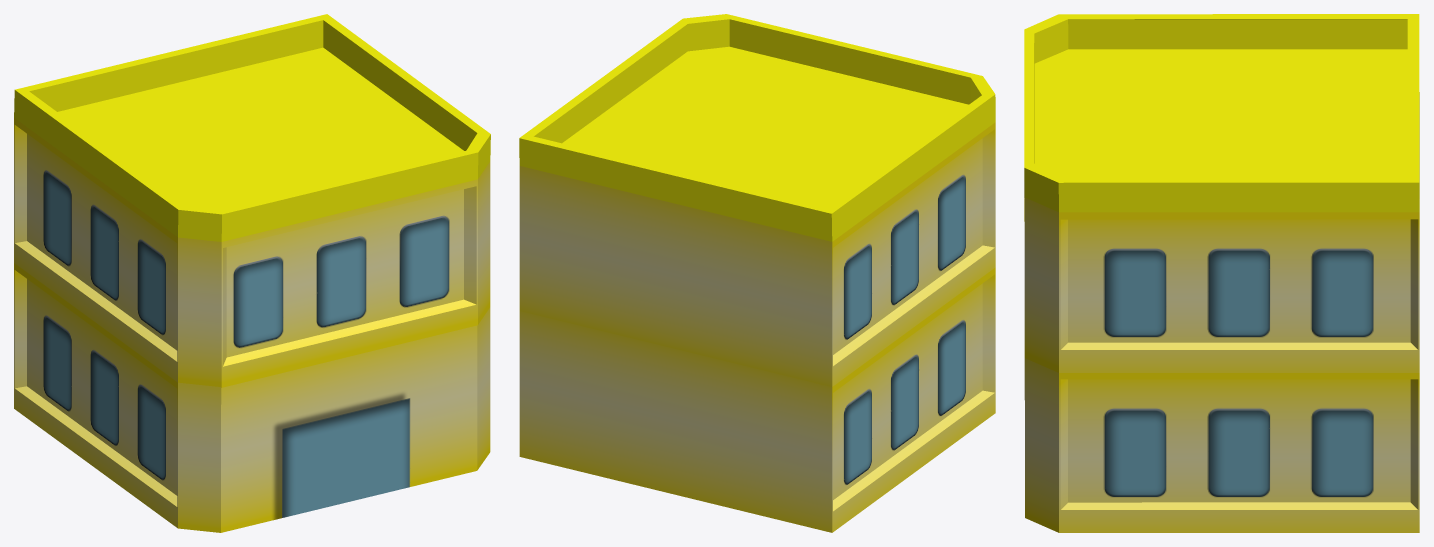
File: Building 4.fbx
3 renders of one model, left to right at view 1: azimuth 30°, elevation 25°; view 2: azimuth 150°, elevation 25°; view 3: azimuth 270°, elevation 25°, orthographic. The views are drawn at different scales.
Parts seen in each view (by area): view 1: Building_4; view 2: Building_4; view 3: Building_4.
Boxes of the visible parts, bbox=[...] form: Building_4: bbox=[14, 14, 490, 532]; Building_4: bbox=[519, 14, 995, 532]; Building_4: bbox=[1024, 14, 1419, 532].
Bounding box in the file's own units: 82.93 × 80.8 × 82.35.
